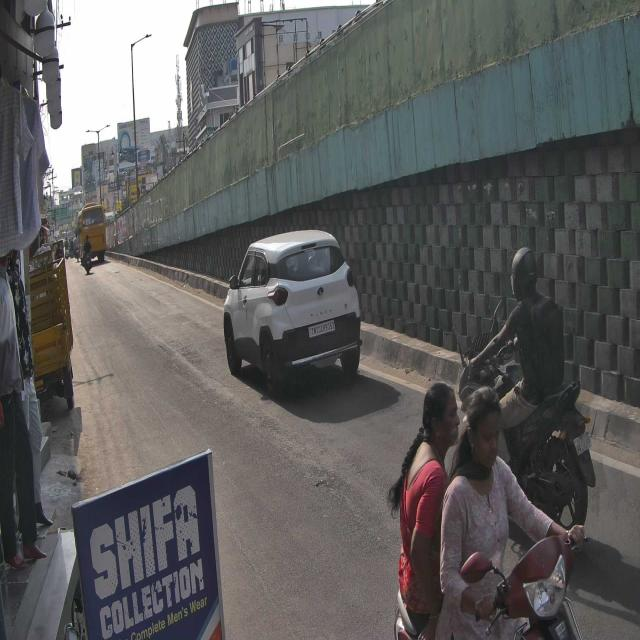double_rider: (391, 370, 593, 640)
